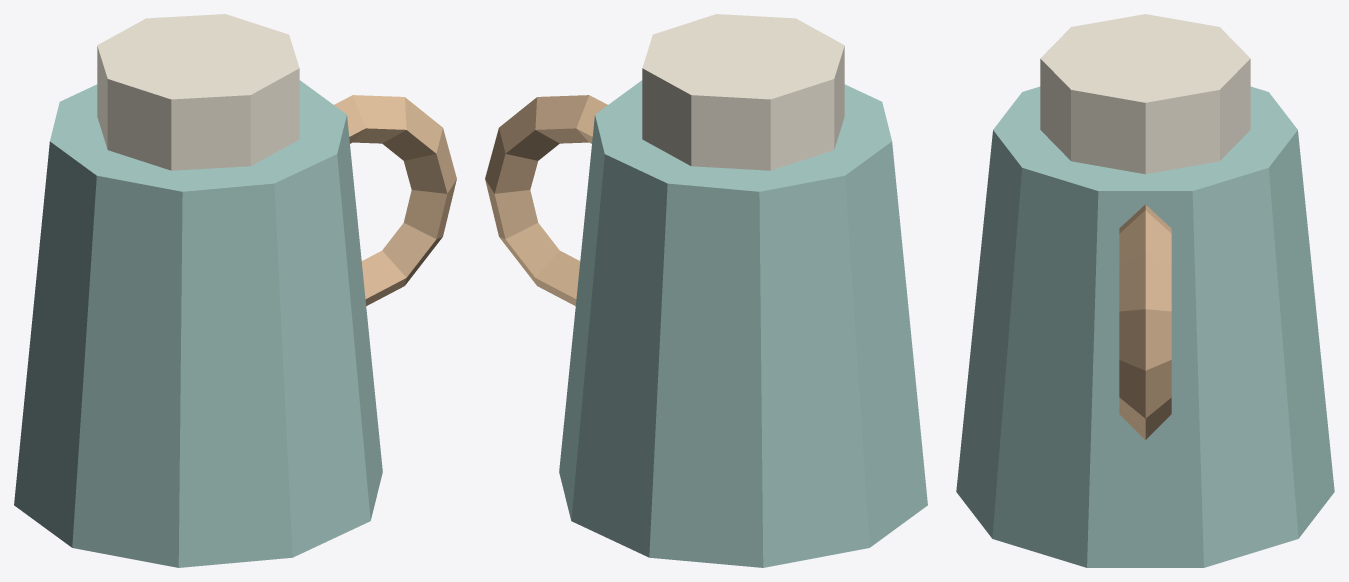
Rendered from cargo_medicine.fbx.
The picture shows the model from 3 angles, left to right: view 1: azimuth 30°, elevation 25°; view 2: azimuth 150°, elevation 25°; view 3: azimuth 270°, elevation 25°; orthographic projection.
Parts seen in each view (by area): view 1: cargo_medicine_mesh; view 2: cargo_medicine_mesh; view 3: cargo_medicine_mesh.
Boxes of the visible parts, x1,y1,x2,y2 form: cargo_medicine_mesh: (14,14,456,567); cargo_medicine_mesh: (485,14,927,567); cargo_medicine_mesh: (956,14,1334,567).
Bounding box in the file's own units: 0.4562 × 0.455 × 0.36.
